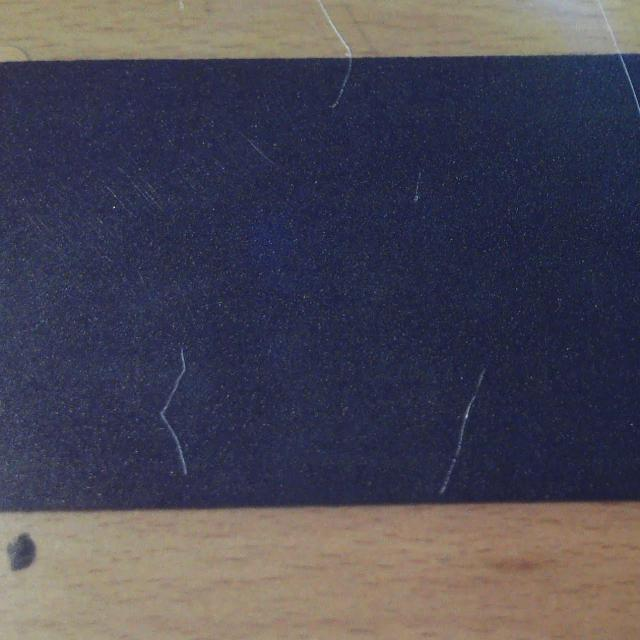defect: (432, 358, 490, 498), (156, 344, 193, 476), (613, 55, 640, 116), (327, 59, 358, 111)
